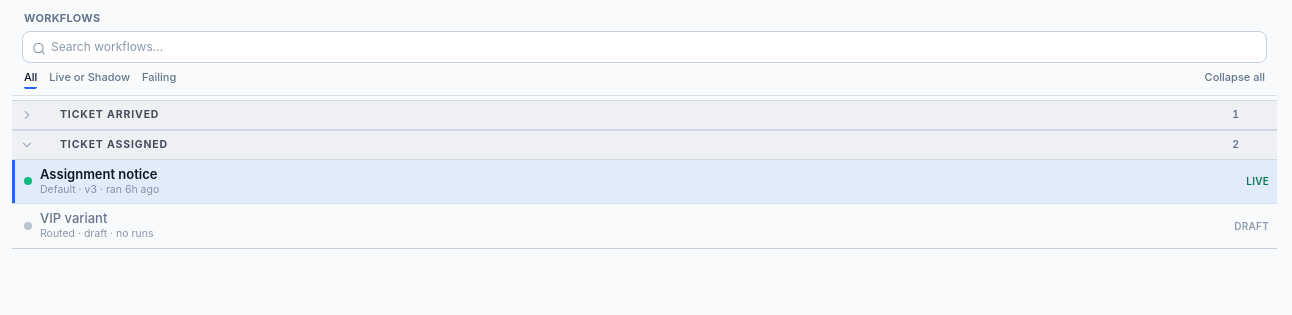
Test: WorkflowIndex sidebar (L2, 22 Sep 2026) › opens folded except the selected workflow’s group; Collapse all / Expand all flips every group
Expected: the text "After-hours arrival" is not shown
Click the button "Collapse all". click: (1235, 79)
box: [1205,68,1265,89]
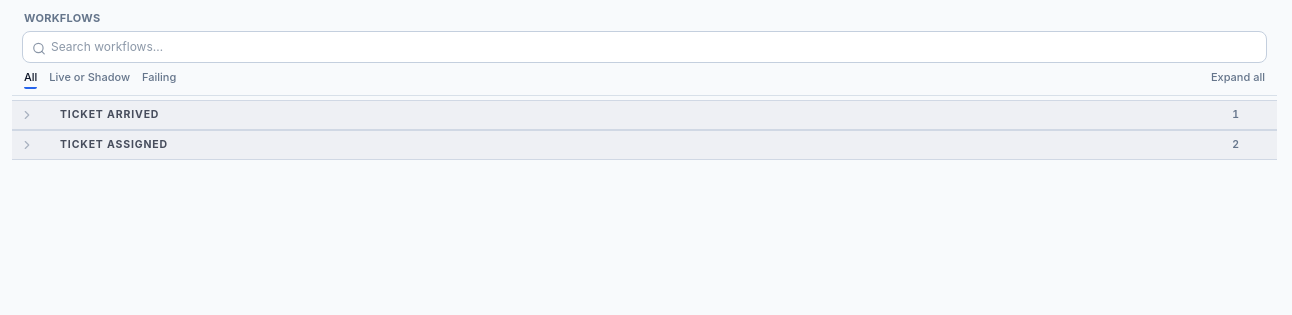
Expected: the button "Assignment notice" is gone
Click the button "Expand all". click: (1238, 79)
box: [1211,68,1265,89]
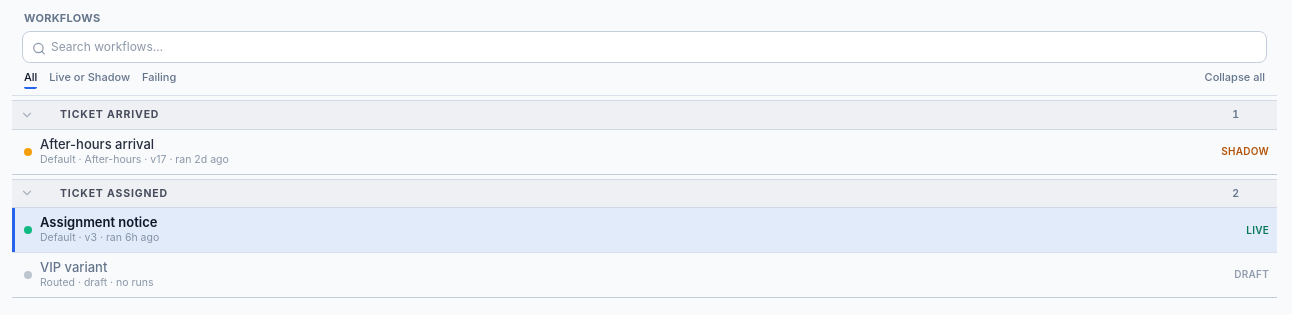
Expected: the text "After-hours arrival" is shown, [40,136,154,152]
Expected: the text "Assignment notice" is shown, [40,214,158,230]
Expected: the button "Collapse all" is shown, [1205,68,1265,89]
